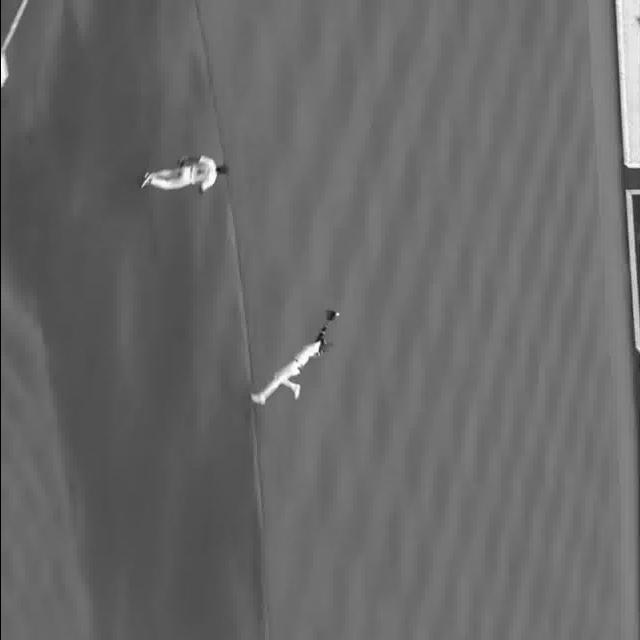base: (0, 53, 9, 86)
baseball: (336, 312, 338, 316)
baseball_glove: (322, 310, 332, 322), (174, 160, 186, 170)
shoe: (247, 391, 264, 407), (292, 381, 300, 406), (142, 170, 150, 190)
